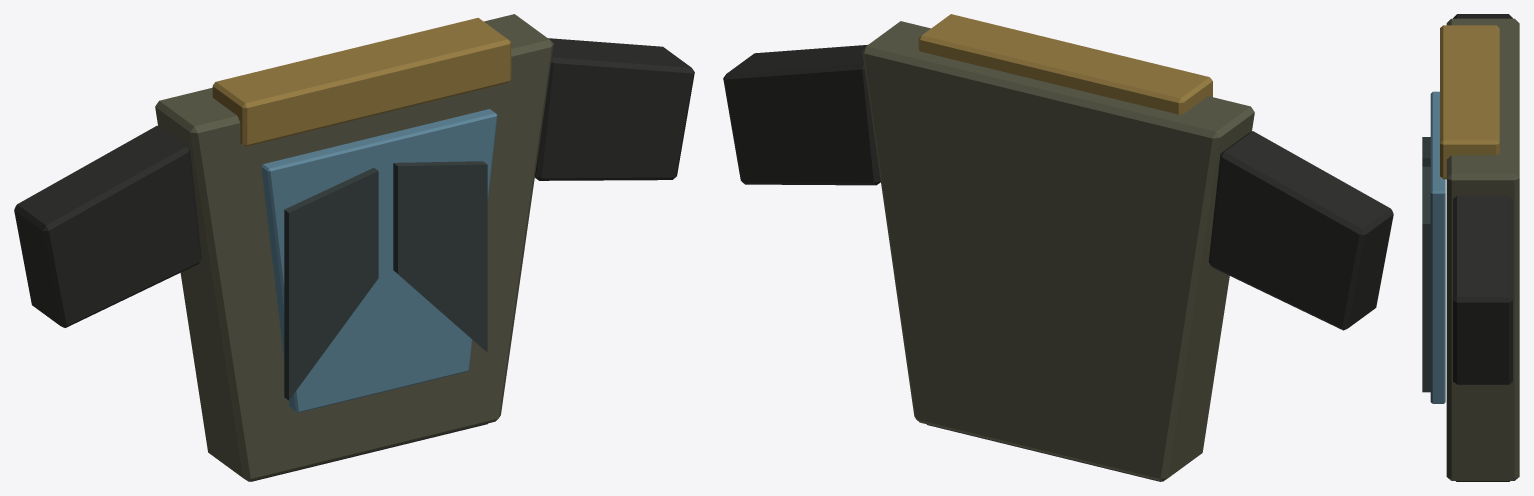
The model's file is mirror_armor.obj.
3 renders of one model, left to right at view 1: azimuth 30°, elevation 25°; view 2: azimuth 150°, elevation 25°; view 3: azimuth 270°, elevation 25°, orthographic. The views are drawn at different scales.
Visible parts, largest first — view 1: B_Torso.001_oxidized_bronze, B_LeftShoulder.001_wrought_iron, B_LeftFacet.001_smoked_glass, B_MirrorPanel.001_crystal, B_Collar.001_ritual_gold; view 2: B_Torso.001_oxidized_bronze, B_LeftShoulder.001_wrought_iron, B_Collar.001_ritual_gold; view 3: B_Torso.001_oxidized_bronze, B_LeftShoulder.001_wrought_iron, B_Collar.001_ritual_gold, B_MirrorPanel.001_crystal, B_LeftFacet.001_smoked_glass.
Boxes of the visible parts, x1,y1,x2,y2 form: B_Torso.001_oxidized_bronze: [155, 14, 553, 481]; B_LeftShoulder.001_wrought_iron: [14, 38, 694, 327]; B_LeftFacet.001_smoked_glass: [284, 161, 487, 400]; B_MirrorPanel.001_crystal: [261, 109, 497, 412]; B_Collar.001_ritual_gold: [212, 17, 511, 146]; B_Torso.001_oxidized_bronze: [862, 21, 1254, 481]; B_LeftShoulder.001_wrought_iron: [723, 45, 1393, 330]; B_Collar.001_ritual_gold: [918, 14, 1212, 114]; B_Torso.001_oxidized_bronze: [1446, 18, 1519, 480]; B_LeftShoulder.001_wrought_iron: [1453, 14, 1512, 384]; B_Collar.001_ritual_gold: [1440, 25, 1499, 179]; B_MirrorPanel.001_crystal: [1430, 91, 1445, 403]; B_LeftFacet.001_smoked_glass: [1422, 137, 1430, 392].
Size of the model in its own units: 2.04 by 1.16 by 0.2925.
